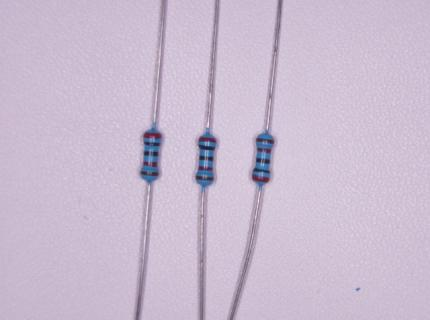Black band: (198, 144, 216, 150), (257, 158, 270, 165), (253, 168, 270, 173), (144, 152, 159, 157), (199, 156, 213, 161), (144, 142, 160, 146)
Brown band: (256, 138, 275, 144), (196, 176, 214, 181), (140, 172, 158, 176)
Red band: (252, 175, 269, 182), (144, 133, 161, 138), (200, 137, 216, 142), (144, 161, 157, 167), (198, 166, 213, 170), (258, 149, 271, 153)
